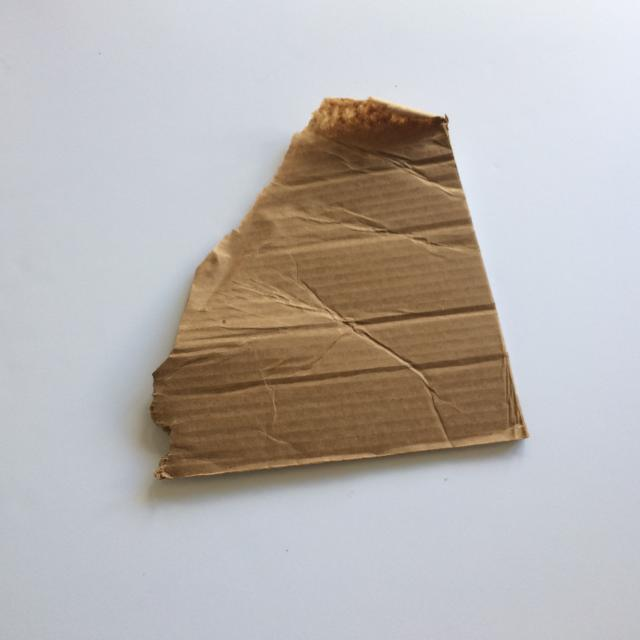cardboard: (148, 95, 530, 480)
